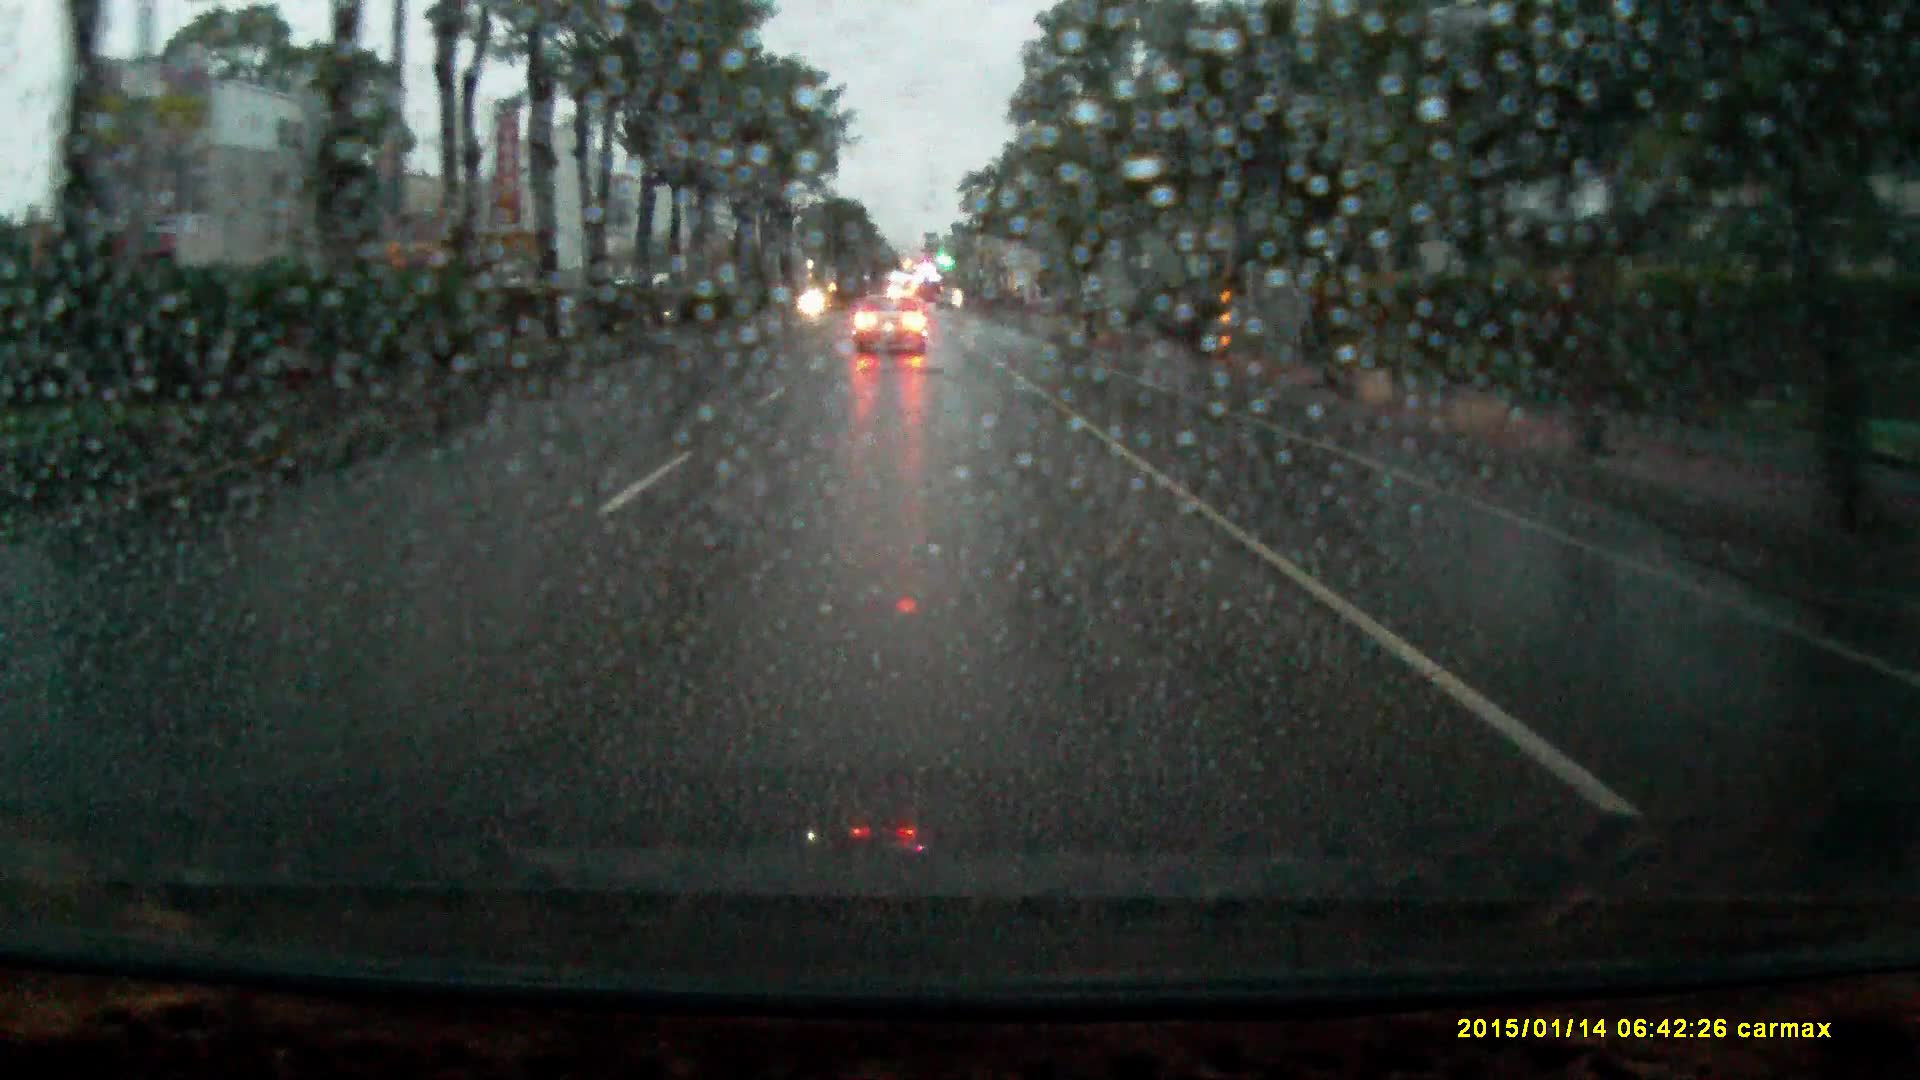vehicle: (851, 294, 932, 361)
